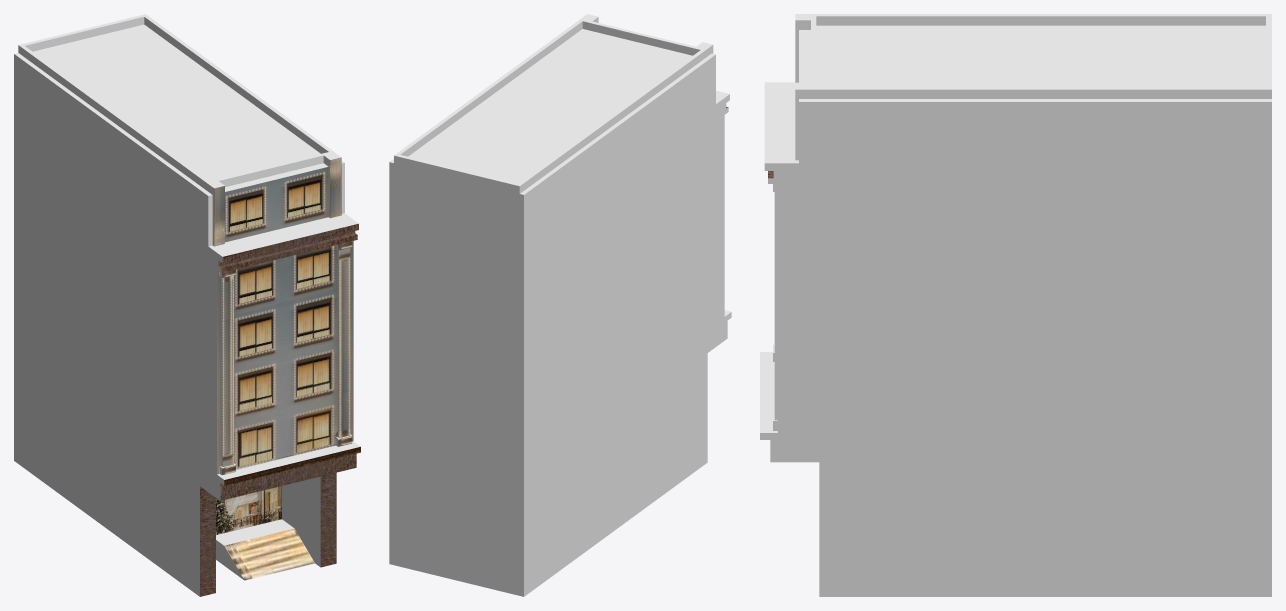
3 views of the same model, side by side, from view 1: azimuth 30°, elevation 25°; view 2: azimuth 150°, elevation 25°; view 3: azimuth 270°, elevation 25° (orthographic). The views are drawn at different scales.
Parts seen in each view (by area): view 1: Prestige_Hotel; view 2: Prestige_Hotel; view 3: Prestige_Hotel.
Part boxes in pixels (bbox=[...]): Prestige_Hotel: bbox=[14, 14, 360, 596]; Prestige_Hotel: bbox=[389, 14, 731, 596]; Prestige_Hotel: bbox=[760, 14, 1271, 596].
Size of the model in its own units: 6 by 17.42 by 16.01.
1 material, 1 textured.
